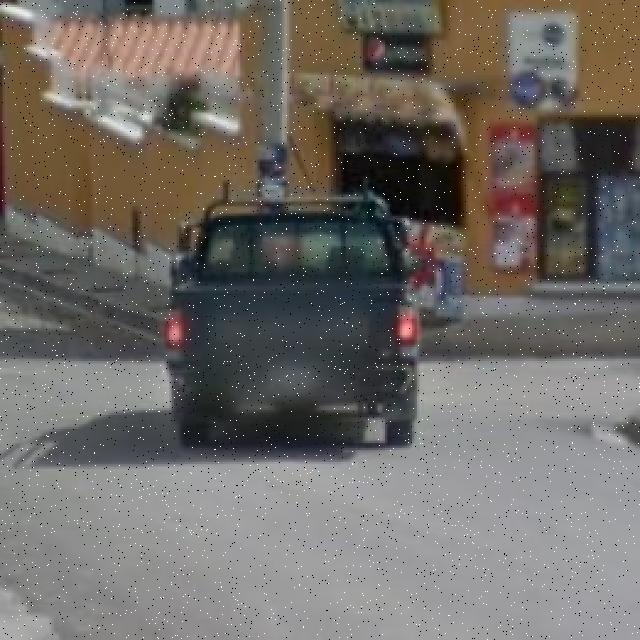cars: (176, 204, 426, 432)
